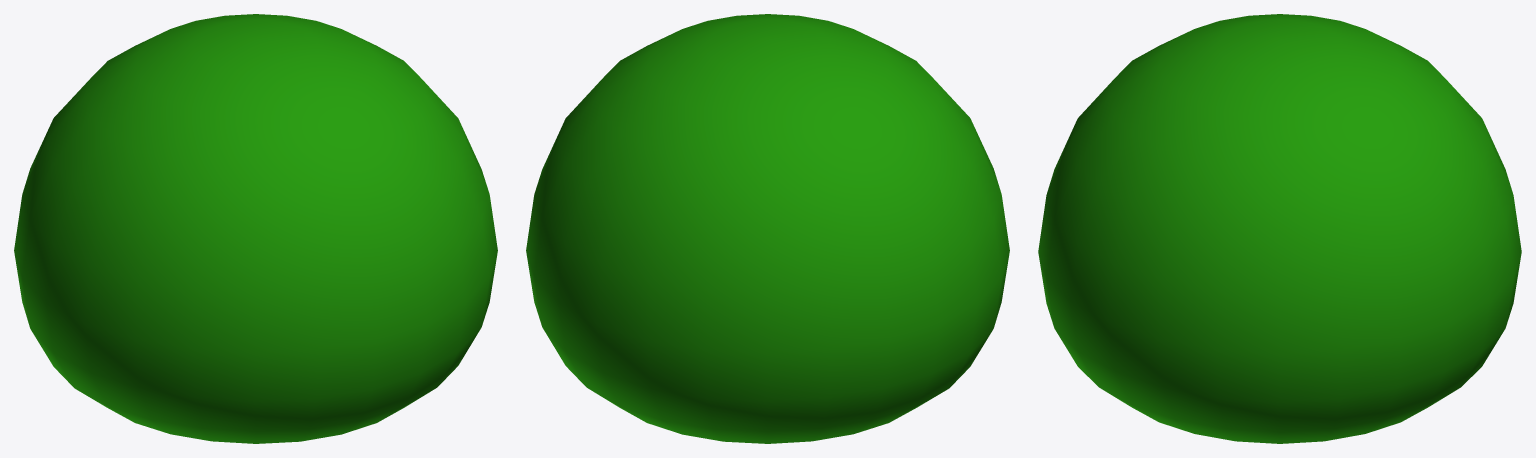
Rendered from Bush.dae.
3 renders of one model, left to right at view 1: azimuth 30°, elevation 25°; view 2: azimuth 150°, elevation 25°; view 3: azimuth 270°, elevation 25°, orthographic.
Parts seen in each view (by area): view 1: Bush; view 2: Bush; view 3: Bush.
Part boxes in pixels (x1,y1,x2,y2): Bush: (14, 14, 497, 443); Bush: (526, 14, 1009, 443); Bush: (1038, 14, 1521, 443).
Bounding box in the file's own units: 28.5 × 23.5 × 28.5.
Materials: 1 (1 with a texture image).
